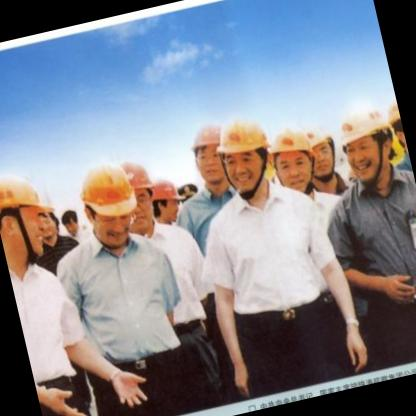helmet: (69, 153, 146, 253), (1, 158, 63, 274), (332, 101, 405, 194), (211, 110, 279, 198), (181, 115, 240, 200), (265, 119, 326, 200), (301, 119, 346, 189), (124, 165, 162, 230), (149, 179, 190, 233), (389, 94, 414, 172)
